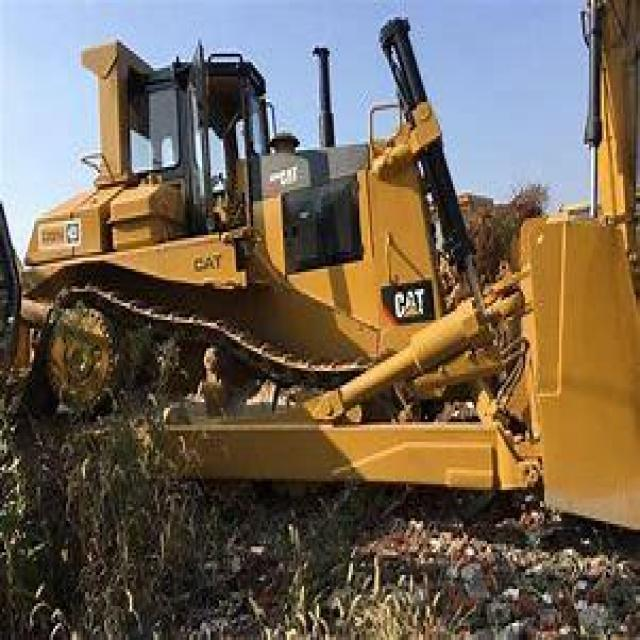Bulldozer: (6, 31, 638, 564)
